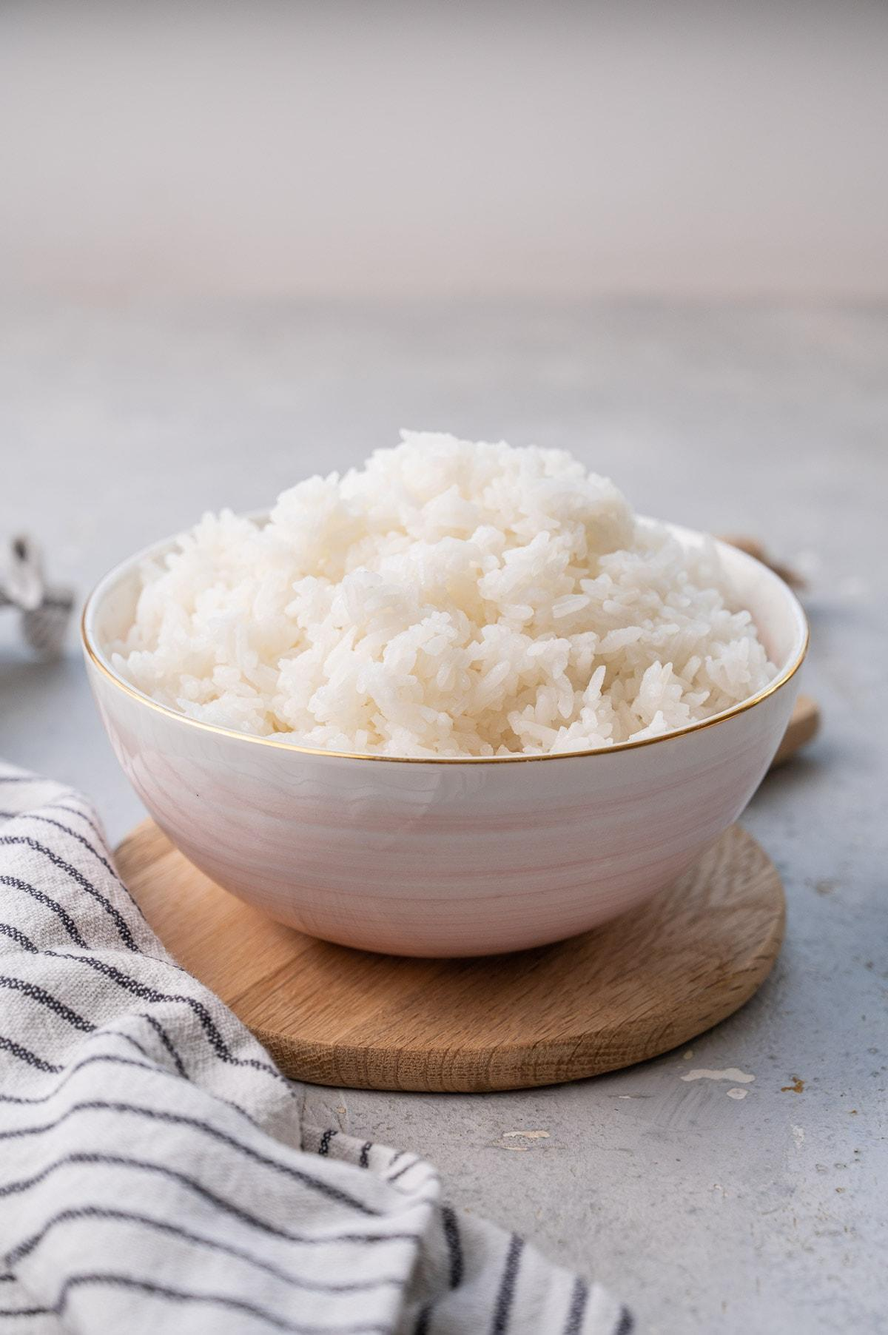rice: (117, 427, 775, 755)
